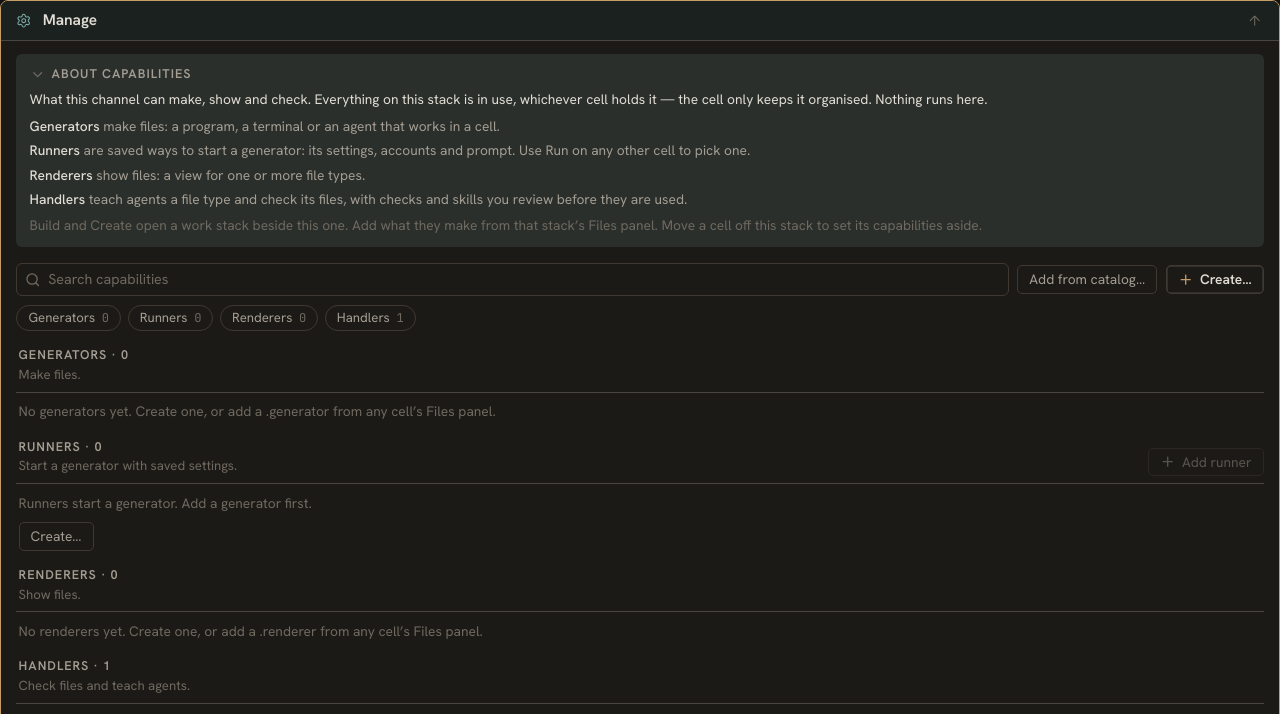
The Runners group › with no generator, Add runner is off and the group offers Create… instead
expect the text "Runners start a generator. Add a generator first." is shown: met, box x1=19 y1=493 x2=312 y2=513
expect the button "Add runner" is disabled: met, box x1=1148 y1=448 x2=1264 y2=476
What coordinates should you click on to do the following:
click the button "Create…" below "Start a generator with saved settings."
I would click on:
 (56, 536)
Its box is x1=19 y1=522 x2=94 y2=551.
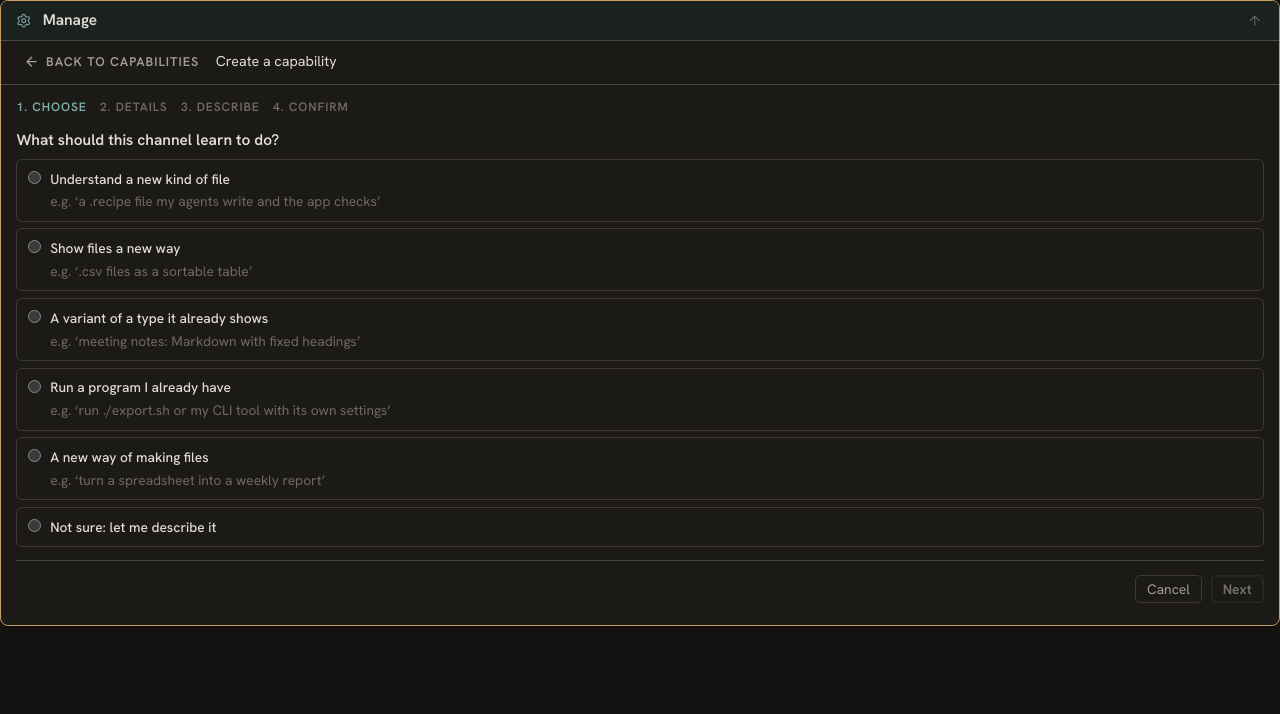
expect the element "What should this channel learn to do?" is shown: met, box x1=16 y1=129 x2=1264 y2=547
